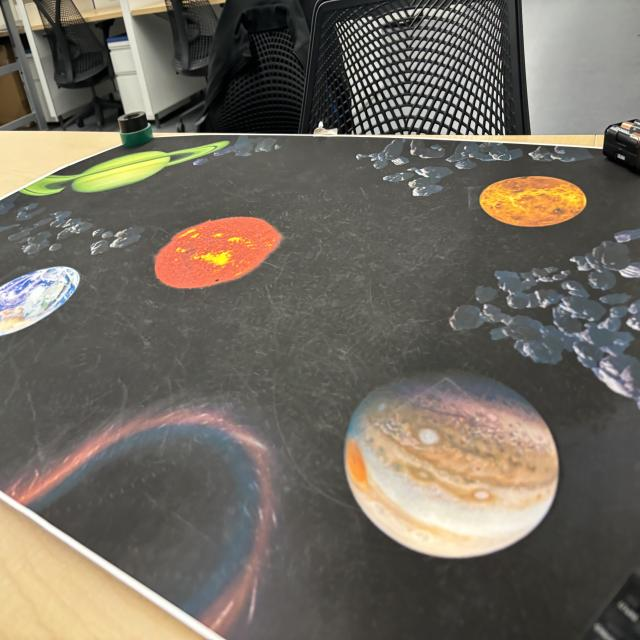Asteroids: (453, 223, 638, 406), (2, 193, 146, 262), (369, 134, 503, 192), (227, 137, 281, 158)
Black Hole: (35, 407, 273, 620)
Earth: (0, 264, 82, 336)
Jupiter: (344, 371, 561, 556)
Saturn: (23, 132, 227, 193)
Sun: (157, 215, 272, 286)
Venus: (475, 175, 590, 221)
